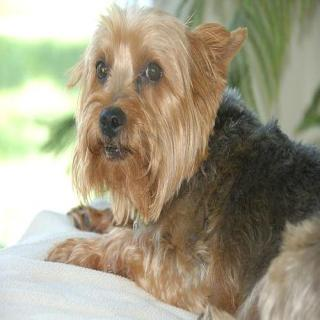dog: (68, 6, 250, 232)
nose: (94, 107, 128, 136)
